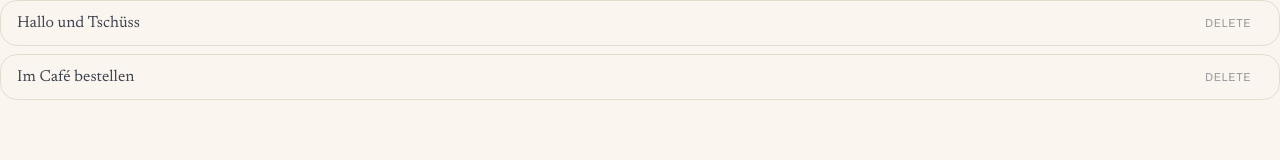
it: deleting › announces a failure against the conversation it belongs to
The image size is (1280, 160).
Click the button "Delete" in the row of "Hallo und Tschüss" at x=1228, y=23, box x1=1193 y1=11 x2=1263 y2=35
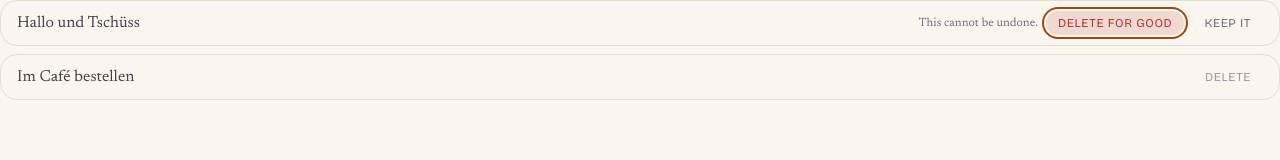
Click the button "Delete for good" at x=1115, y=23, box x1=1046 y1=11 x2=1184 y2=35
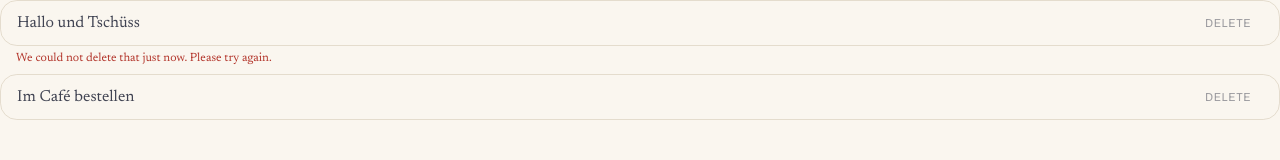
expect the message reads "We could not delete that just now. Please try again.": met, box x1=16 y1=52 x2=272 y2=64
